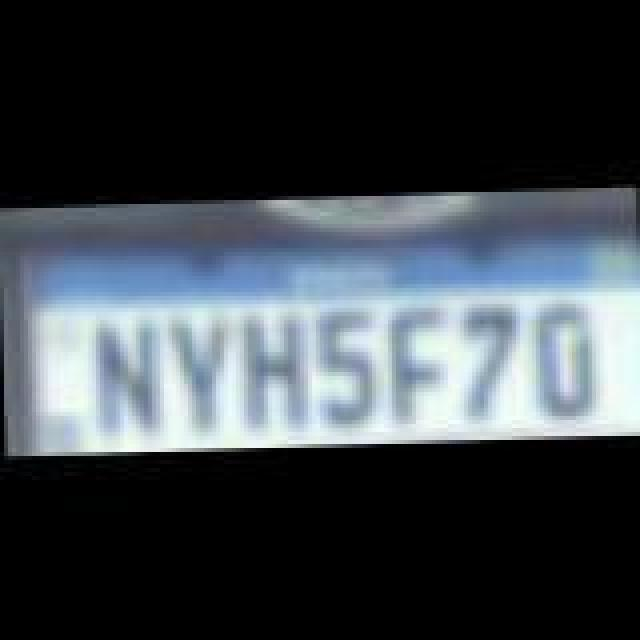5: (310, 302, 378, 426)
7: (456, 306, 520, 430)
D: (528, 300, 600, 420)
F: (384, 304, 448, 432)
H: (244, 306, 308, 430)
N: (88, 312, 160, 440)
Y: (168, 310, 232, 434)
